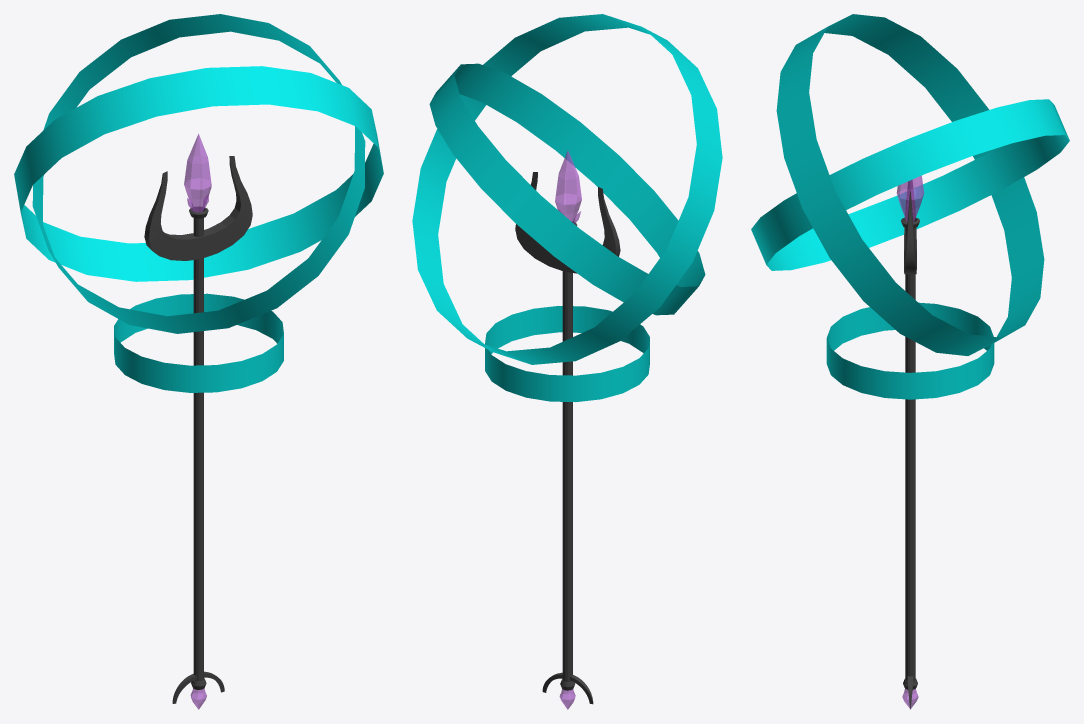
The model's file is Staff3.fbx.
3 views of the same model, side by side, from view 1: azimuth 30°, elevation 25°; view 2: azimuth 150°, elevation 25°; view 3: azimuth 270°, elevation 25° (orthographic). The views are drawn at different scales.
Visible parts, largest first — view 1: StaffMagic_holo1, StaffMagic_holo2, Staff, Handle_holo, Staff_Crystals; view 2: StaffMagic_holo2, StaffMagic_holo1, Handle_holo, Staff, Staff_Crystals; view 3: StaffMagic_holo1, StaffMagic_holo2, Handle_holo, Staff, Staff_Crystals.
Boxes of the visible parts, <box> form: StaffMagic_holo1: <box>14,66,383,281</box>; StaffMagic_holo2: <box>32,14,365,333</box>; Staff: <box>144,156,252,703</box>; Handle_holo: <box>114,293,283,392</box>; Staff_Crystals: <box>184,134,211,709</box>; StaffMagic_holo2: <box>429,63,705,315</box>; StaffMagic_holo1: <box>412,14,722,364</box>; Handle_holo: <box>485,306,649,402</box>; Staff: <box>515,172,620,704</box>; Staff_Crystals: <box>555,150,581,709</box>; StaffMagic_holo1: <box>776,14,1044,355</box>; StaffMagic_holo2: <box>751,99,1069,270</box>; Handle_holo: <box>826,302,994,399</box>; Staff: <box>901,180,919,709</box>; Staff_Crystals: <box>896,175,924,708</box>.
Size of the model in its own units: 118 by 241 by 105.
